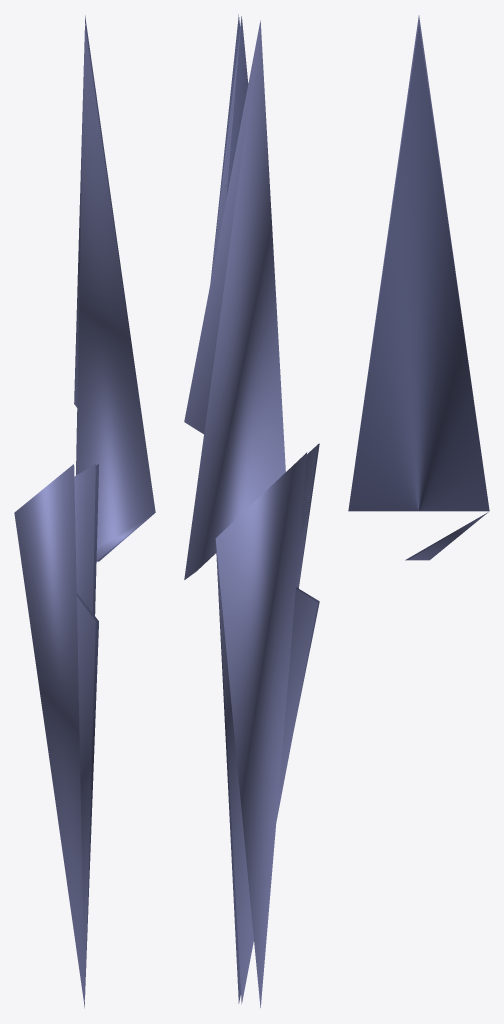
Rendered from equip_shield_mithril_sq.glb.
3 renders of one model, left to right at view 1: azimuth 90°, elevation 25°; view 2: azimuth 150°, elevation 25°; view 3: azimuth 270°, elevation 25°, orthographic.
Parts seen in each view (by area): view 1: equip_shield_mithril_sq; view 2: equip_shield_mithril_sq; view 3: equip_shield_mithril_sq.
Part boxes in pixels (<box>): equip_shield_mithril_sq: <box>14,15,155,1008</box>; equip_shield_mithril_sq: <box>184,14,319,1007</box>; equip_shield_mithril_sq: <box>348,15,489,560</box>.
Size of the model in its own units: 0.26 by 2 by 0.26.
